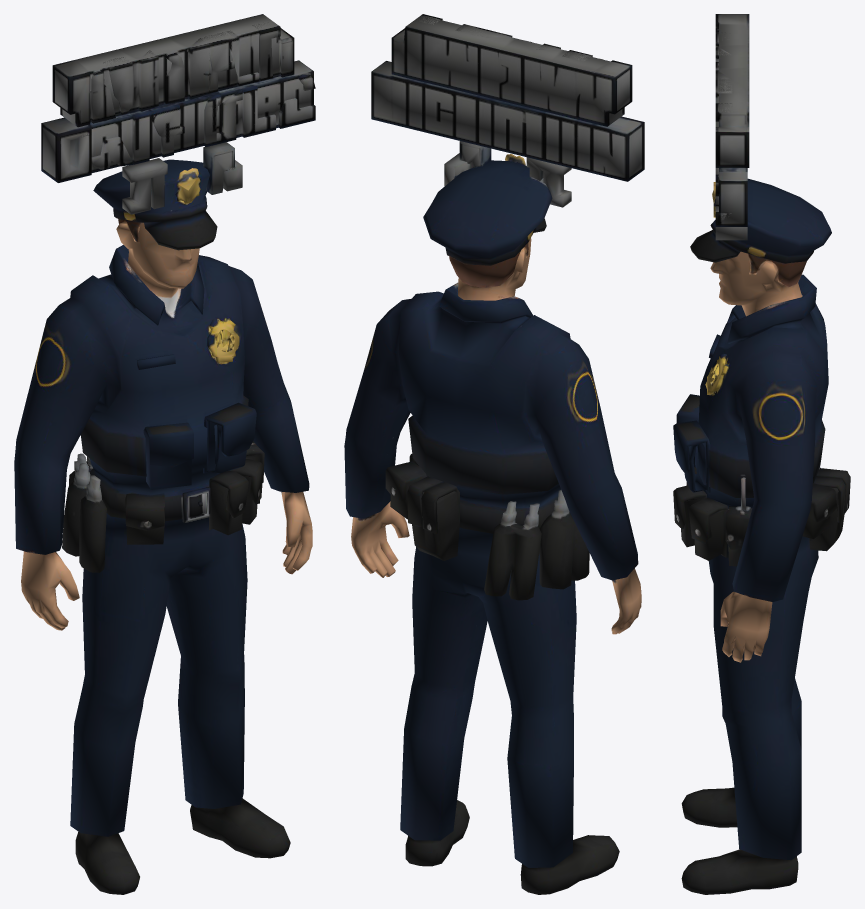
Rendered from CDL_Mesh_Police.glb.
3 views of the same model, side by side, from view 1: azimuth 30°, elevation 25°; view 2: azimuth 150°, elevation 25°; view 3: azimuth 270°, elevation 25° (orthographic). The views are drawn at different scales.
Parts seen in each view (by area): view 1: tripo_node_9eb7e93c-8980-438c-9928-eb96d7b32155; view 2: tripo_node_9eb7e93c-8980-438c-9928-eb96d7b32155; view 3: tripo_node_9eb7e93c-8980-438c-9928-eb96d7b32155.
Boxes of the visible parts, x1,y1,x2,y2 form: tripo_node_9eb7e93c-8980-438c-9928-eb96d7b32155: (14,14,315,894); tripo_node_9eb7e93c-8980-438c-9928-eb96d7b32155: (344,14,644,894); tripo_node_9eb7e93c-8980-438c-9928-eb96d7b32155: (673,14,850,894).
Size of the model in its own units: 0.3613 by 0.998 by 0.2051.
1 material, 1 textured.
